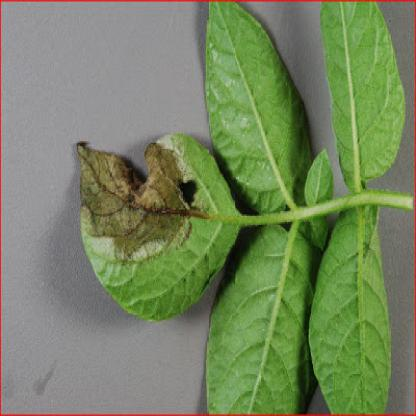potato leaf late blight: (71, 127, 245, 331)
